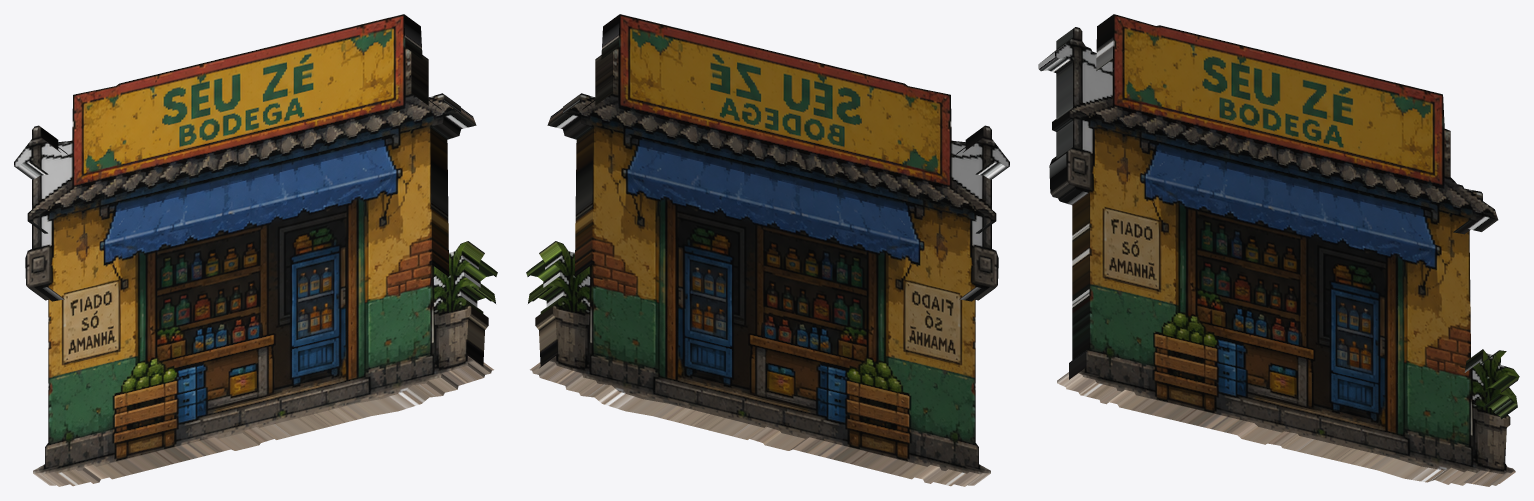
Rendered from props_00.glb.
The picture shows the model from 3 angles, left to right: view 1: azimuth 30°, elevation 25°; view 2: azimuth 150°, elevation 25°; view 3: azimuth 330°, elevation 25°; orthographic projection.
Visible parts, largest first — view 1: world; view 2: world; view 3: world.
Boxes of the visible parts, x1,y1,x2,y2 form: world: (14, 14, 497, 486); world: (526, 14, 1009, 486); world: (1038, 14, 1519, 486).
Bounding box in the file's own units: 5.46 × 4.24 × 0.34.
1 material, 1 textured.
